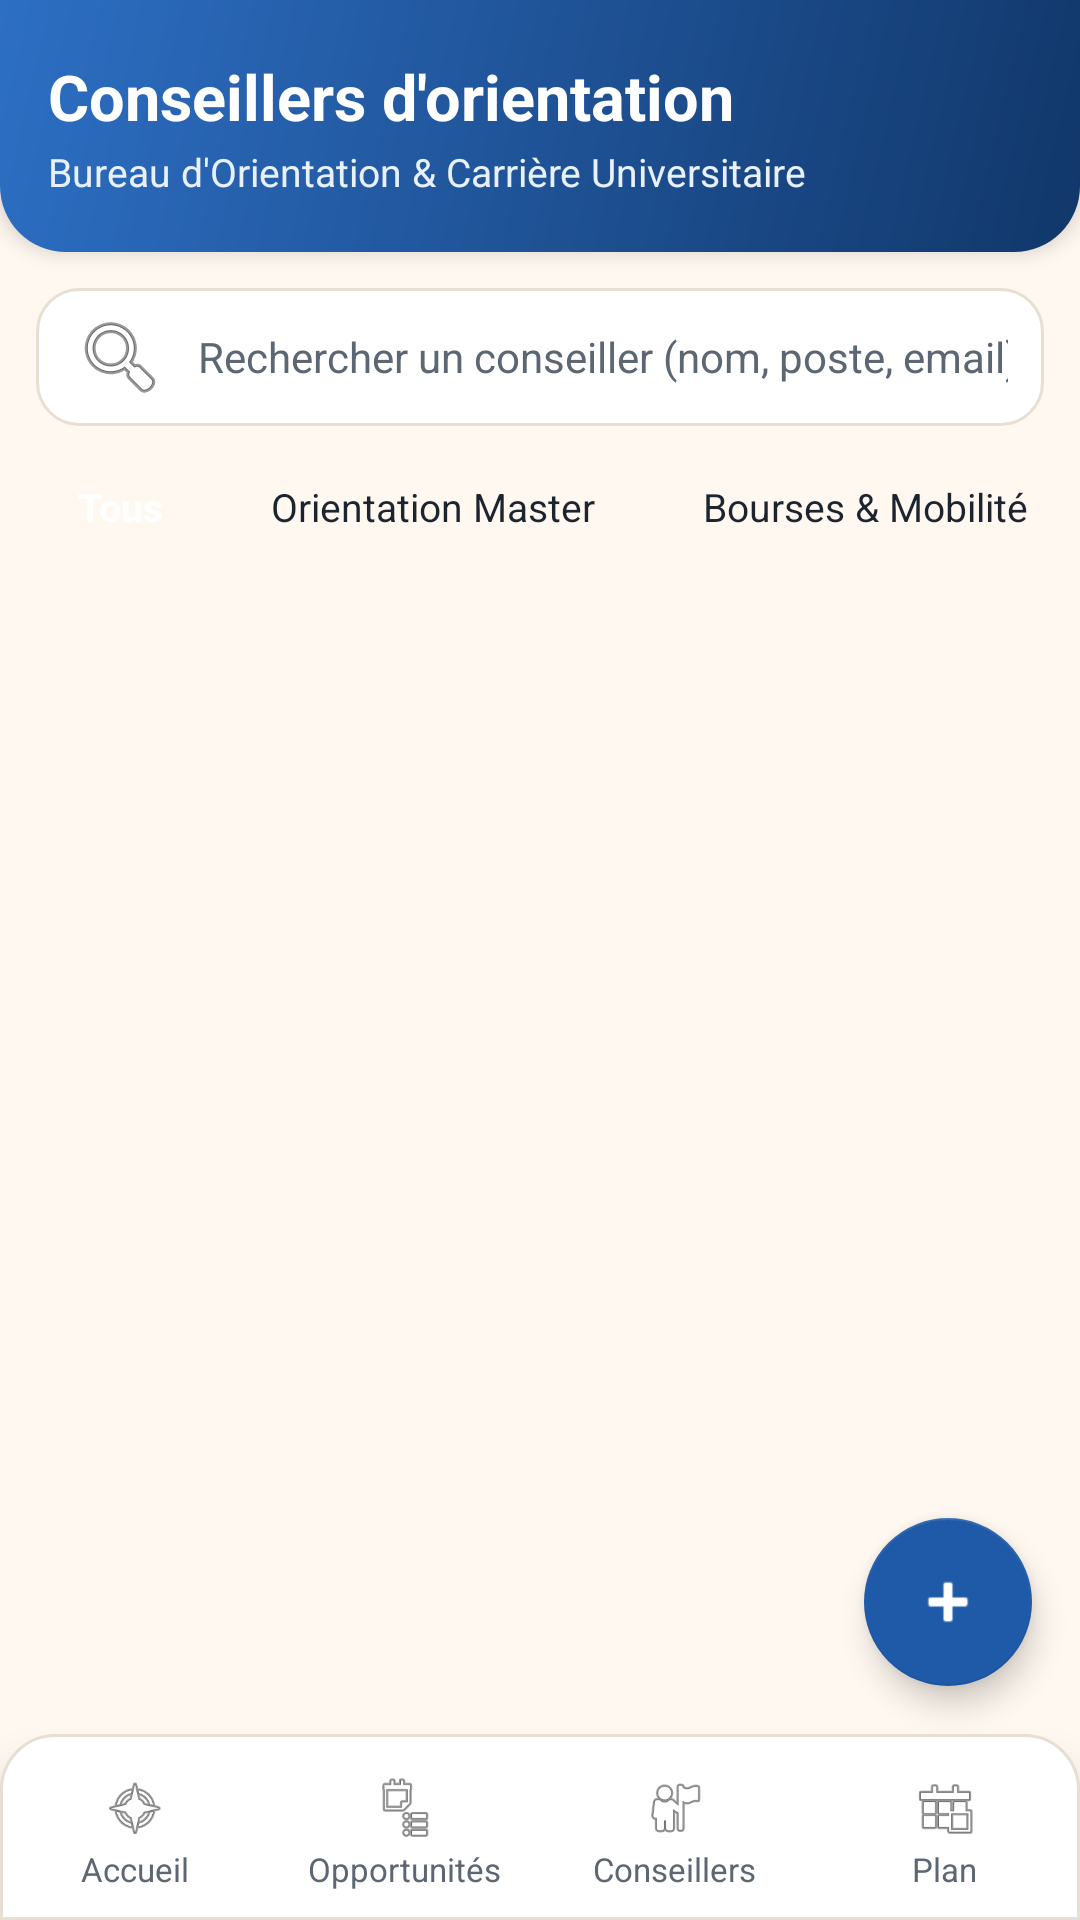

Named icons in this screenshot (1080 x 1920) and their centers, (x=x, y=y):
Ajouter un conseiller: (x=948, y=1602)
